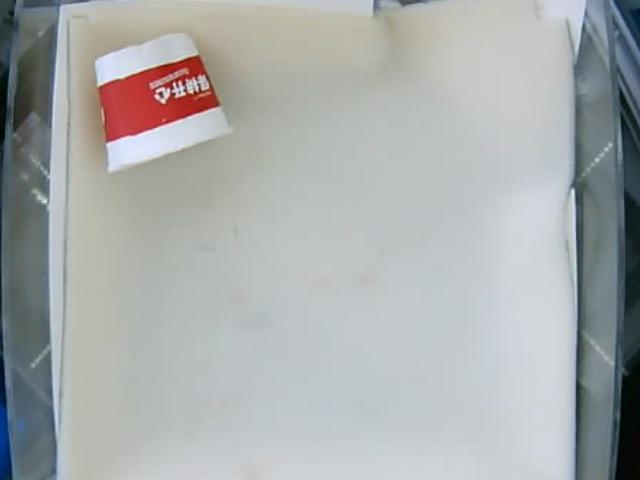Cup: (92, 31, 225, 173)
